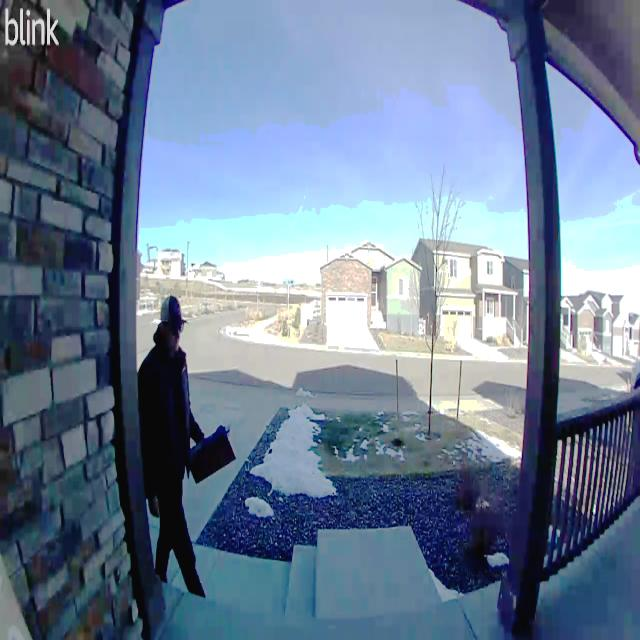Box: (188, 424, 238, 483)
